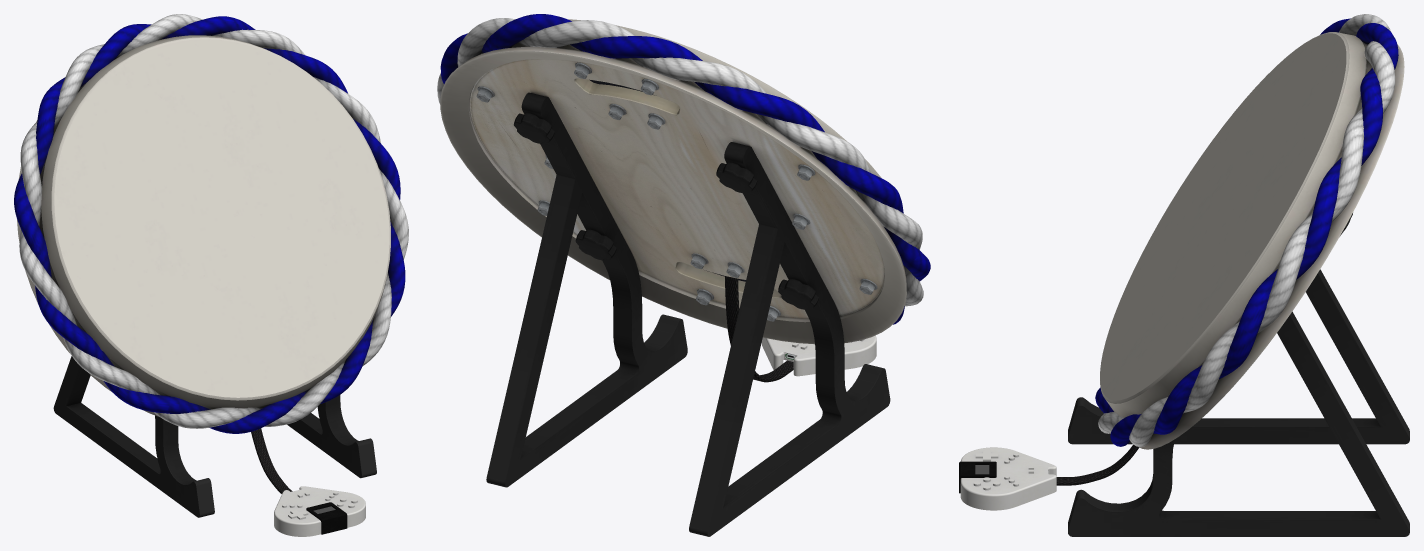
Rendered from iTaiko.opt2k.glb.
3 renders of one model, left to right at view 1: azimuth 30°, elevation 25°; view 2: azimuth 150°, elevation 25°; view 3: azimuth 270°, elevation 25°, orthographic. The views are drawn at different scales.
Visible parts, largest first — view 1: iTaiko_Low, Controller_Low, Cavo_Low; view 2: iTaiko_Low, Controller_Low, Cavo_Low; view 3: iTaiko_Low, Controller_Low, Cavo_Low.
Boxes of the visible parts, x1,y1,x2,y2 form: iTaiko_Low: (14,14,408,517); Controller_Low: (274,486,365,536); Cavo_Low: (251,428,292,493); iTaiko_Low: (437,14,930,536); Controller_Low: (761,335,876,376); Cavo_Low: (725,276,793,382); iTaiko_Low: (1068,14,1409,536); Controller_Low: (959,447,1056,510); Cavo_Low: (1056,444,1139,485).
Bounding box in the file's own units: 24.88 × 24.2 × 22.28.
Materials: 4 (4 with a texture image).
